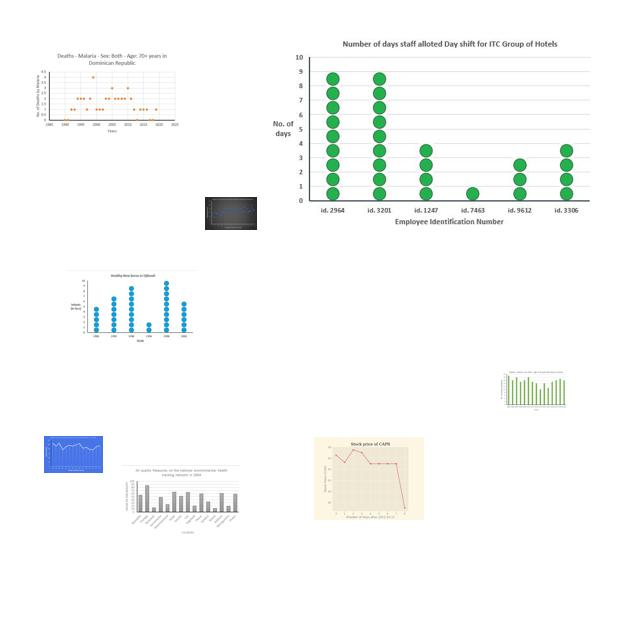Graph: (270, 33, 591, 232), (32, 50, 182, 136), (66, 270, 196, 346), (314, 437, 424, 520), (122, 465, 240, 536), (498, 370, 567, 411), (44, 436, 103, 473), (205, 197, 257, 230)
